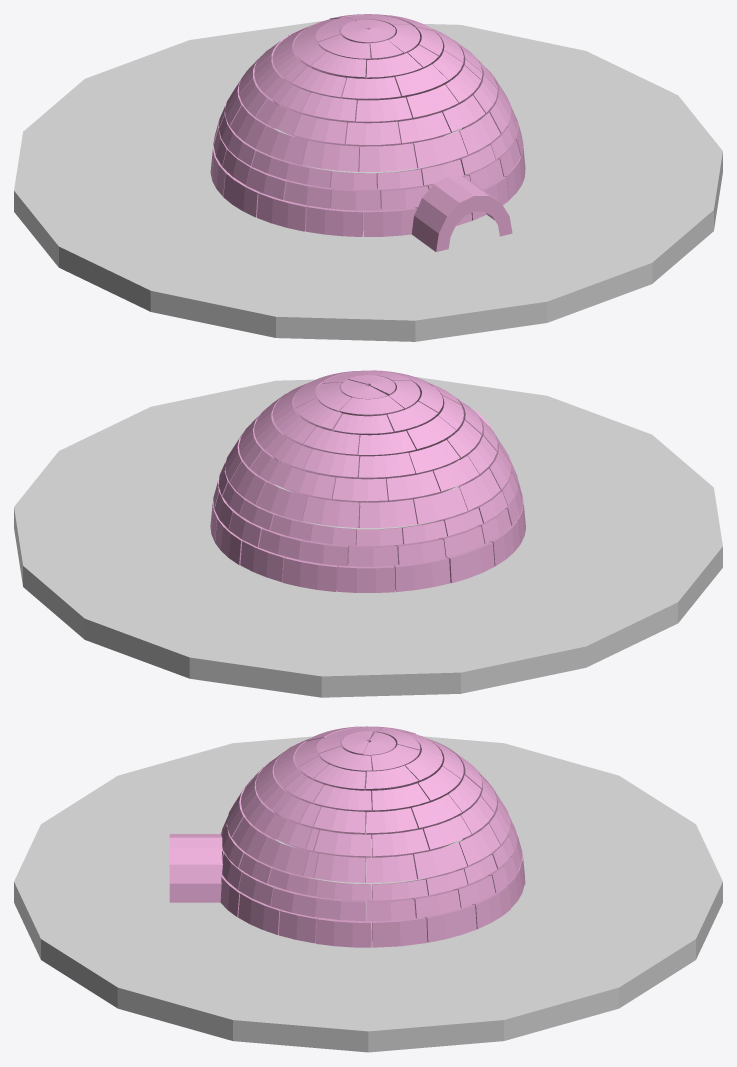
Rendered from igloo3.fbx.
3 views of the same model, one above another, from view 1: azimuth 30°, elevation 25°; view 2: azimuth 150°, elevation 25°; view 3: azimuth 270°, elevation 25° (orthographic).
Visible parts, largest first — view 1: Cylinder.001, Wall.002, Cylinder; view 2: Cylinder.001, Wall.002; view 3: Cylinder.001, Wall.002, Cylinder.
Part boxes in pixels (bbox=[...]): Cylinder.001: bbox=[14, 21, 722, 341]; Wall.002: bbox=[210, 14, 525, 236]; Cylinder: bbox=[411, 165, 512, 251]; Cylinder.001: bbox=[14, 377, 722, 697]; Wall.002: bbox=[210, 370, 525, 592]; Cylinder.001: bbox=[14, 736, 722, 1052]; Wall.002: bbox=[220, 726, 525, 947]; Cylinder: bbox=[169, 834, 223, 902].
Bounding box in the file's own units: 7260 × 1832 × 7260.
